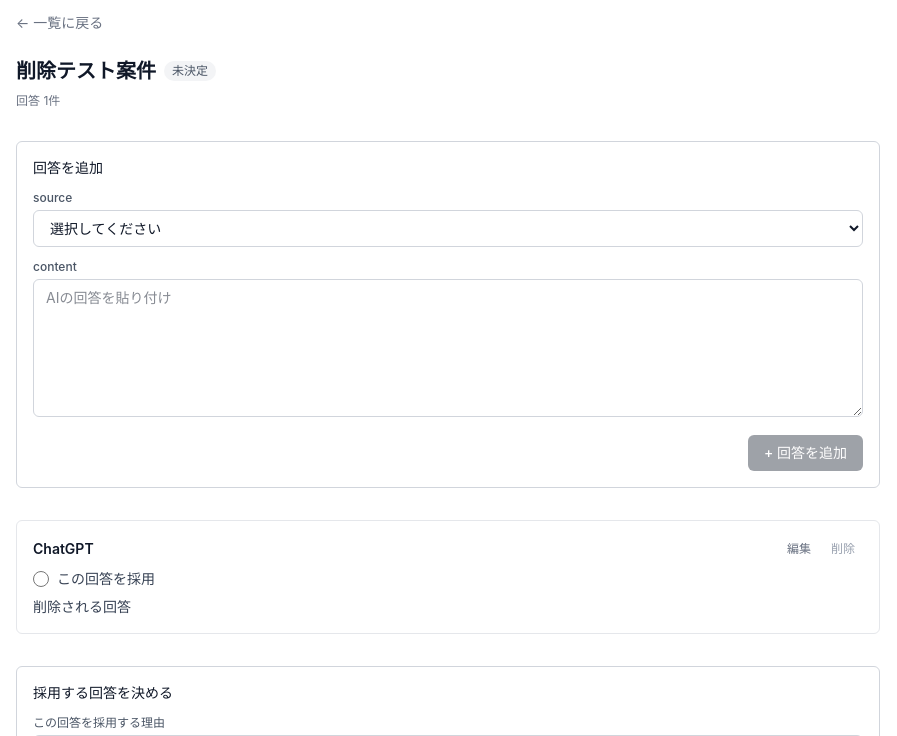
Test case: ProjectDetailScreen › 回答を削除できる
Click the button named "を削除" at (843, 549), box [823,537,863,561]
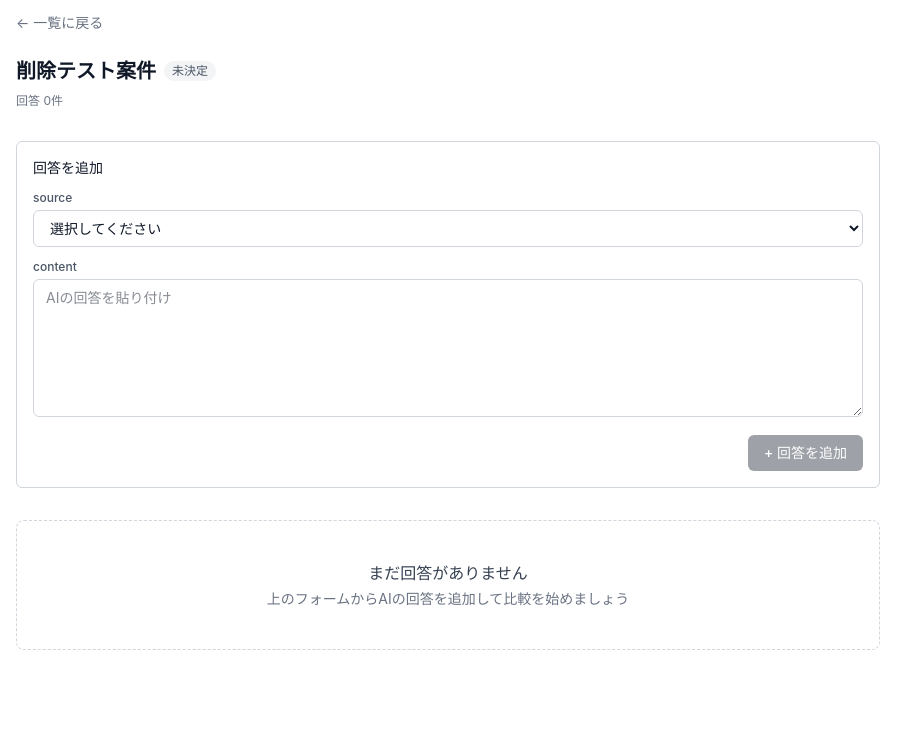
Expected: the text "削除される回答" is gone
Expected: the text "回答 0件" is shown, [16,93,63,108]
